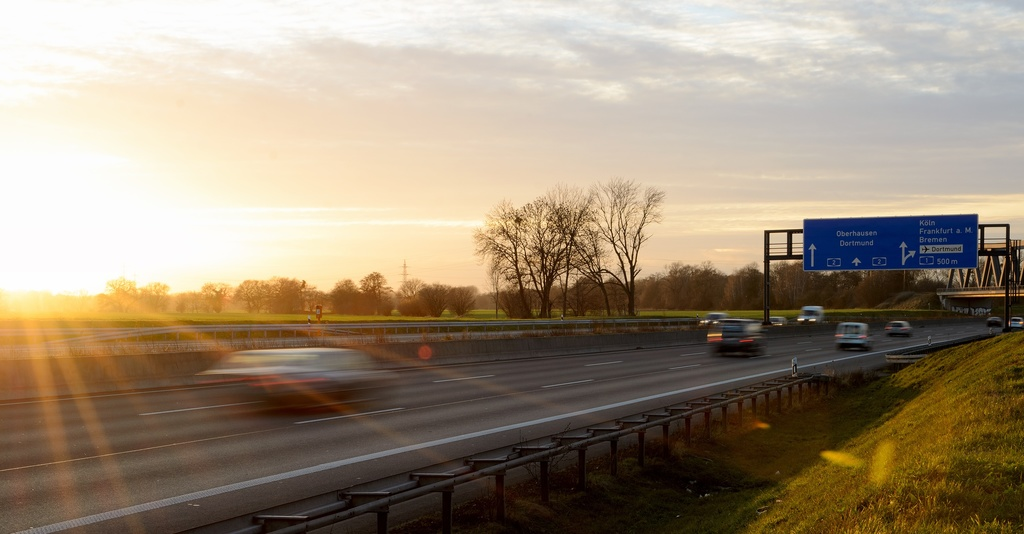Tree: (468, 174, 663, 320), (570, 258, 950, 311), (172, 265, 483, 317), (80, 278, 169, 316)
